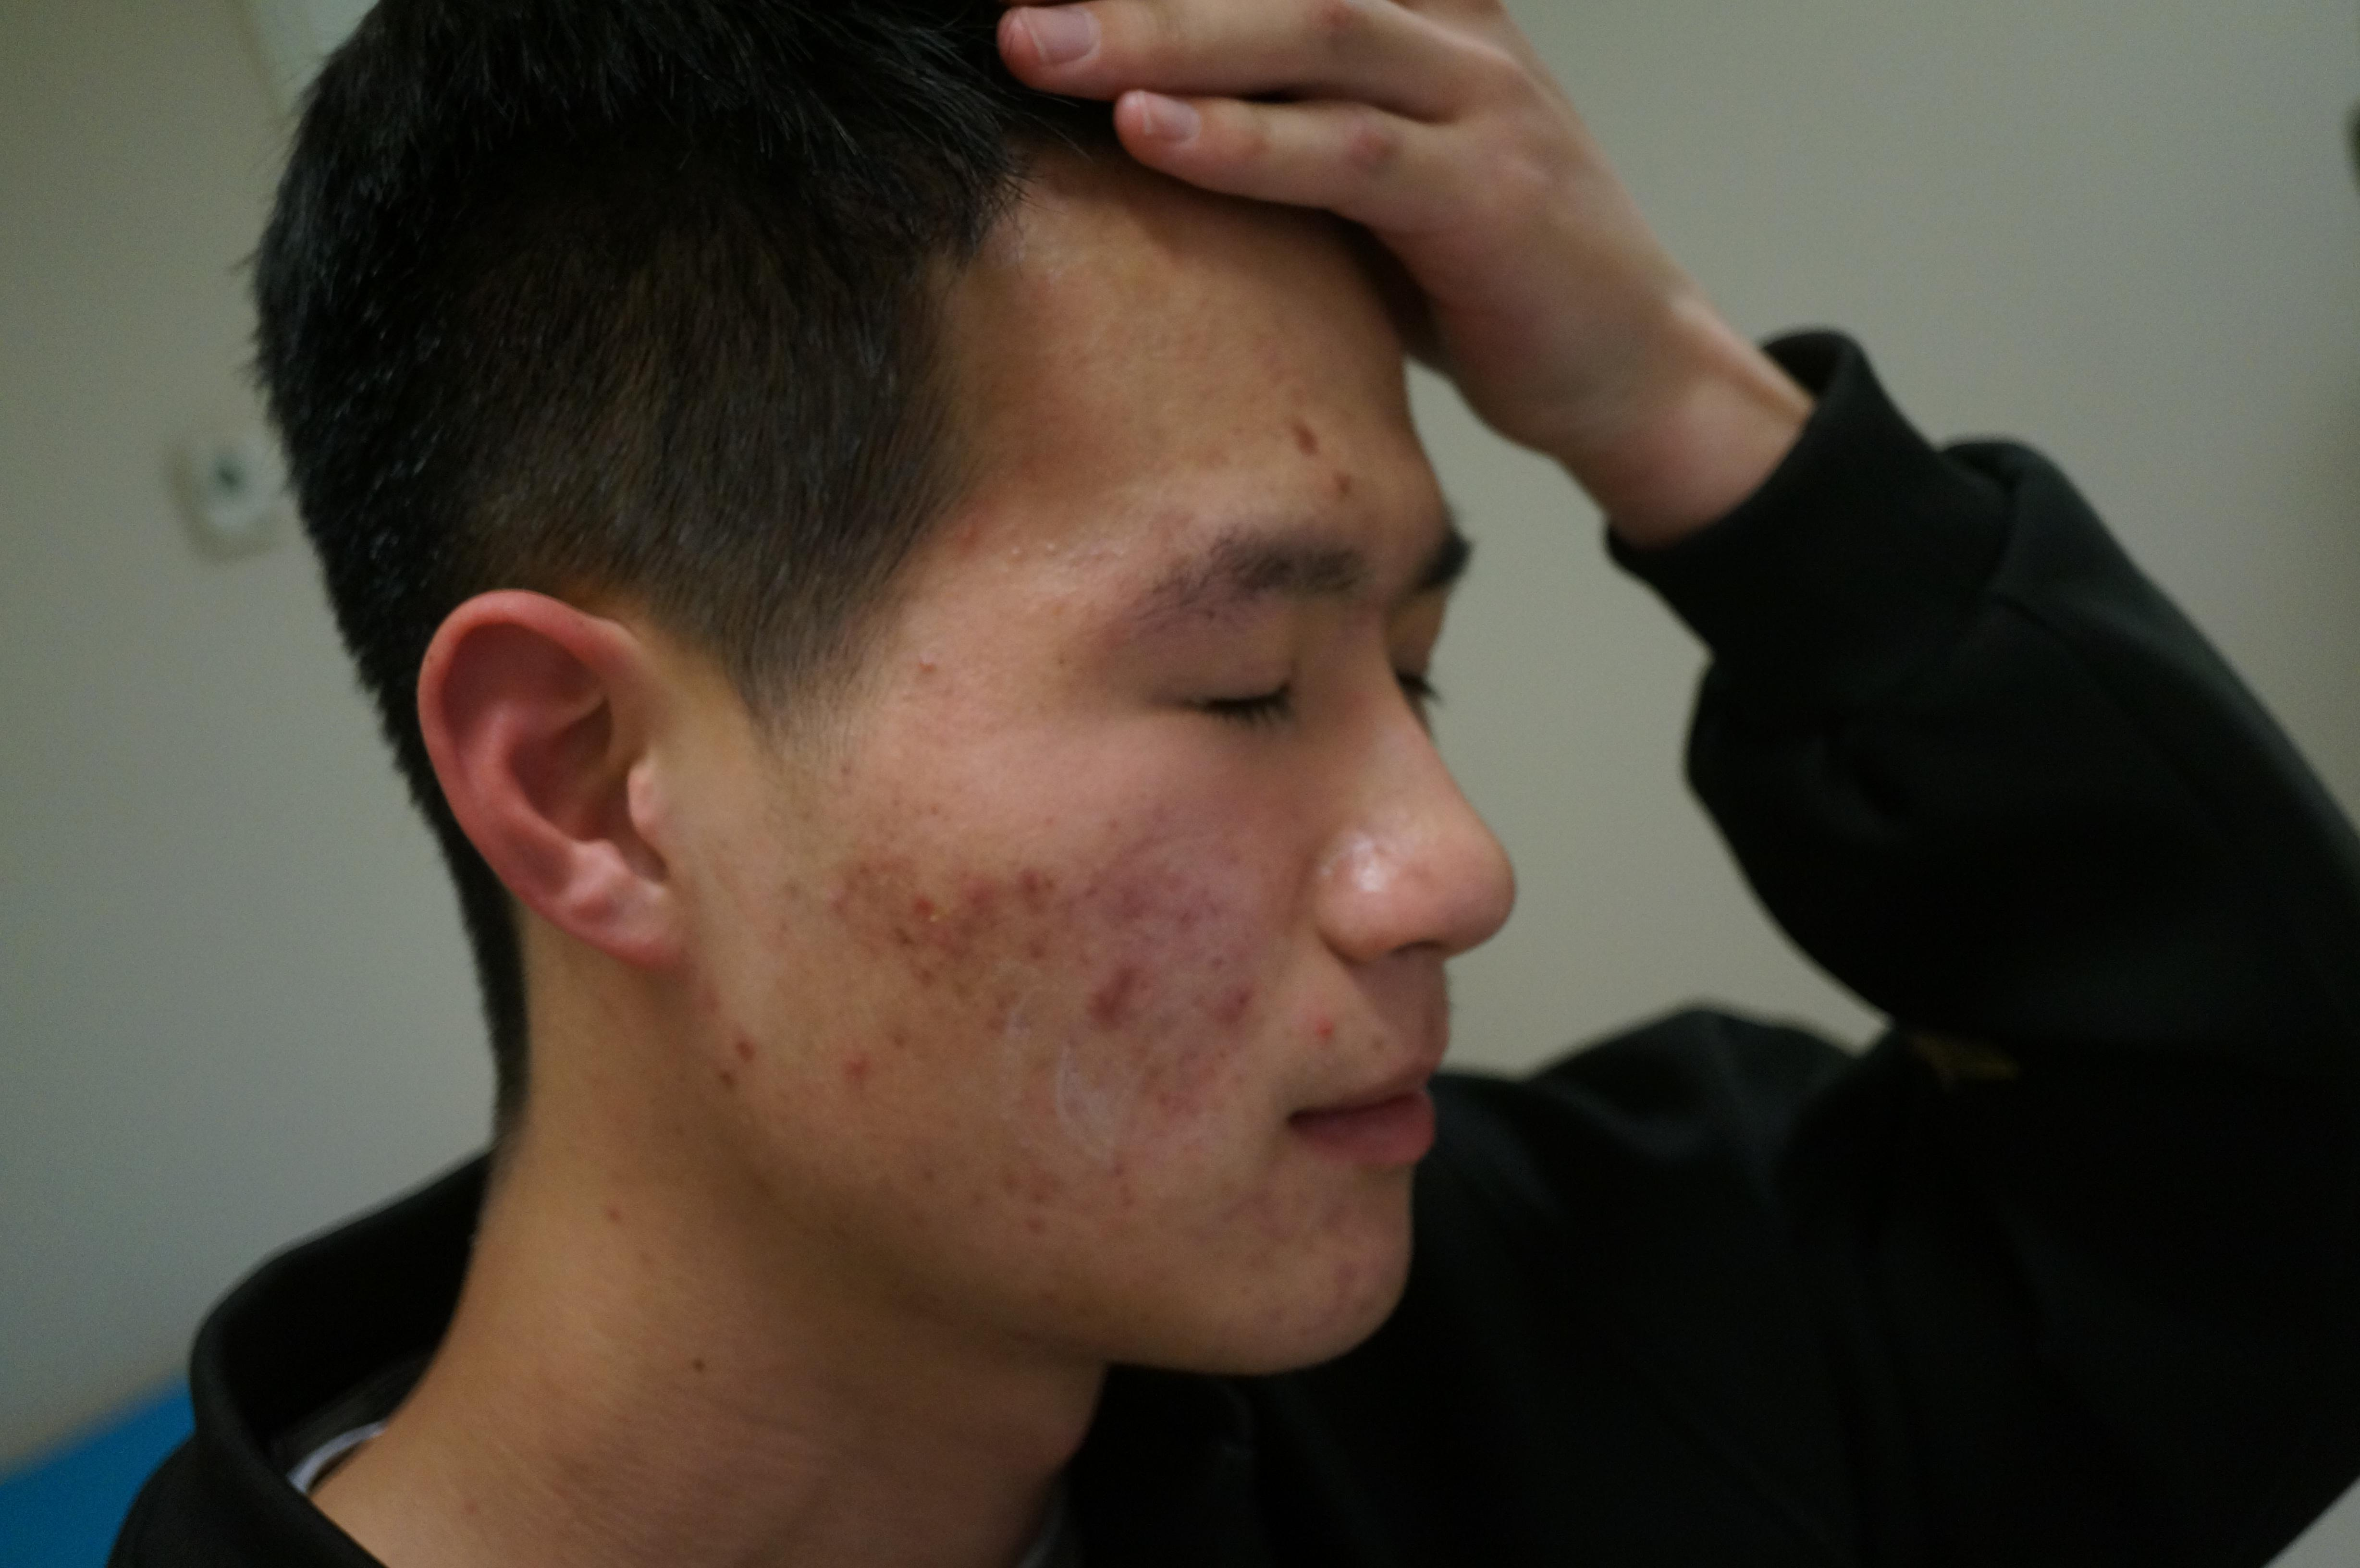fore: (1106, 1144, 1200, 1241), (913, 908, 1001, 1004), (1181, 983, 1300, 1045), (1274, 983, 1356, 1069), (1076, 856, 1181, 920), (1156, 868, 1246, 933), (1121, 1024, 1193, 1104), (813, 861, 882, 936), (1013, 856, 1100, 913), (838, 1032, 901, 1108), (945, 861, 1016, 924), (1006, 1144, 1069, 1207), (981, 977, 1025, 1060), (866, 996, 920, 1060), (1093, 957, 1144, 1024), (710, 1020, 770, 1064), (1009, 924, 1069, 968), (702, 957, 742, 1020), (866, 808, 929, 849), (894, 833, 932, 892), (1321, 453, 1365, 501), (1261, 418, 1300, 462), (904, 889, 932, 936)
